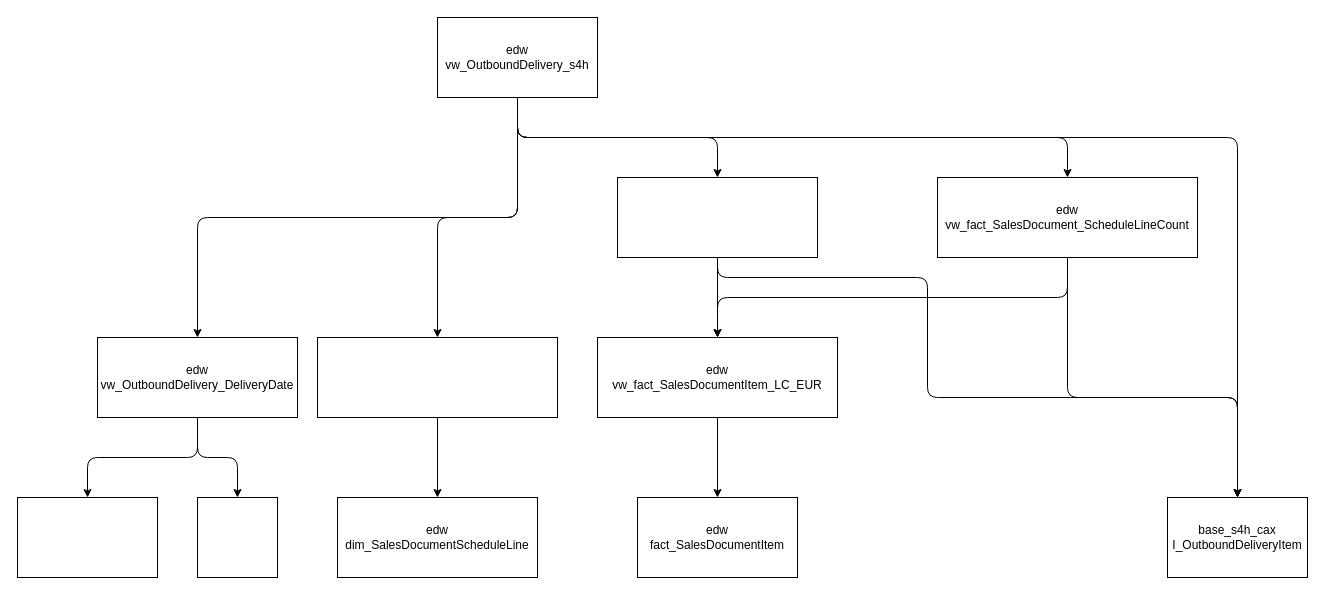
Some shapes in this 1325 by 595 pixel diagram are drawn without their labels. Each missing label, with the centre of its shape:
"base_s4h_cax I_OutboundDelivery" belongs at point 87,537.
"edw dim_Route" belongs at point 237,537.
"edw vw_dim_SalesDocumentFirstScheduleLine" belongs at point 437,377.
"edw vw_fact_SalesDocument_ODICount" belongs at point 717,217.
